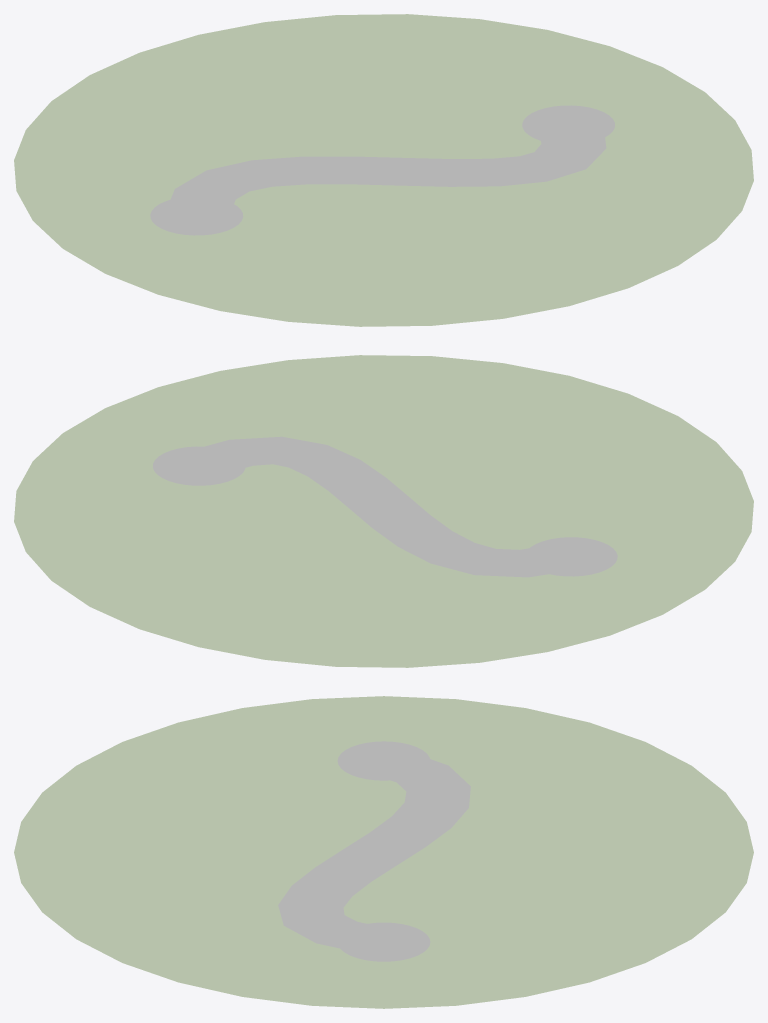
File: ground 1.fbx
The picture shows the model from 3 angles, top to bottom: view 1: azimuth 30°, elevation 25°; view 2: azimuth 150°, elevation 25°; view 3: azimuth 270°, elevation 25°; orthographic projection.
Visible parts, largest first — view 1: 원형, BézierCurve, 원형.002, 원형.001; view 2: 원형, BézierCurve, 원형.002, 원형.001; view 3: 원형, BézierCurve, 원형.001, 원형.002.
Boxes of the visible parts, bbox=[...] form: 원형: bbox=[14, 14, 753, 326]; BézierCurve: bbox=[164, 121, 606, 215]; 원형.002: bbox=[150, 200, 243, 235]; 원형.001: bbox=[522, 105, 614, 140]; 원형: bbox=[14, 355, 753, 667]; BézierCurve: bbox=[176, 436, 586, 577]; 원형.002: bbox=[530, 537, 617, 576]; 원형.001: bbox=[153, 446, 245, 485]; 원형: bbox=[14, 696, 753, 1008]; BézierCurve: bbox=[278, 748, 470, 955]; 원형.001: bbox=[340, 922, 430, 961]; 원형.002: bbox=[337, 741, 429, 780].
Size of the model in its own units: 2253 by 3 by 2253.
